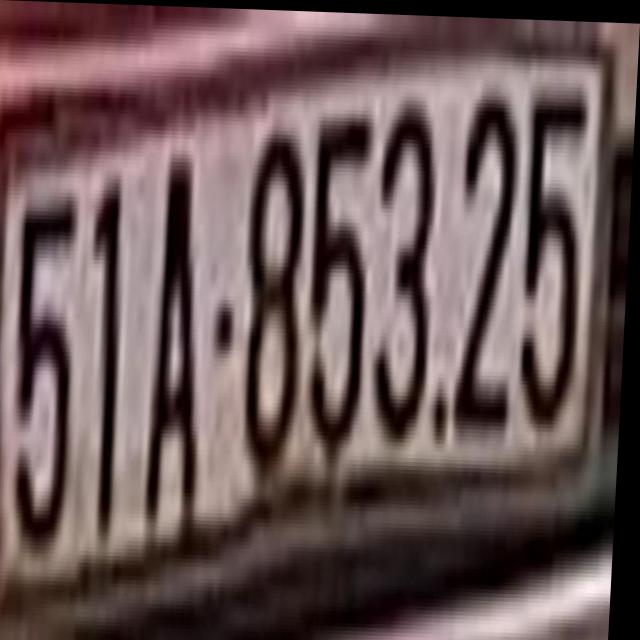1: (84, 166, 141, 540)
2: (452, 76, 527, 438)
3: (372, 85, 440, 447)
5: (7, 191, 84, 577), (519, 74, 593, 428), (304, 106, 380, 450)
8: (241, 112, 315, 475)
A: (147, 125, 218, 510)
